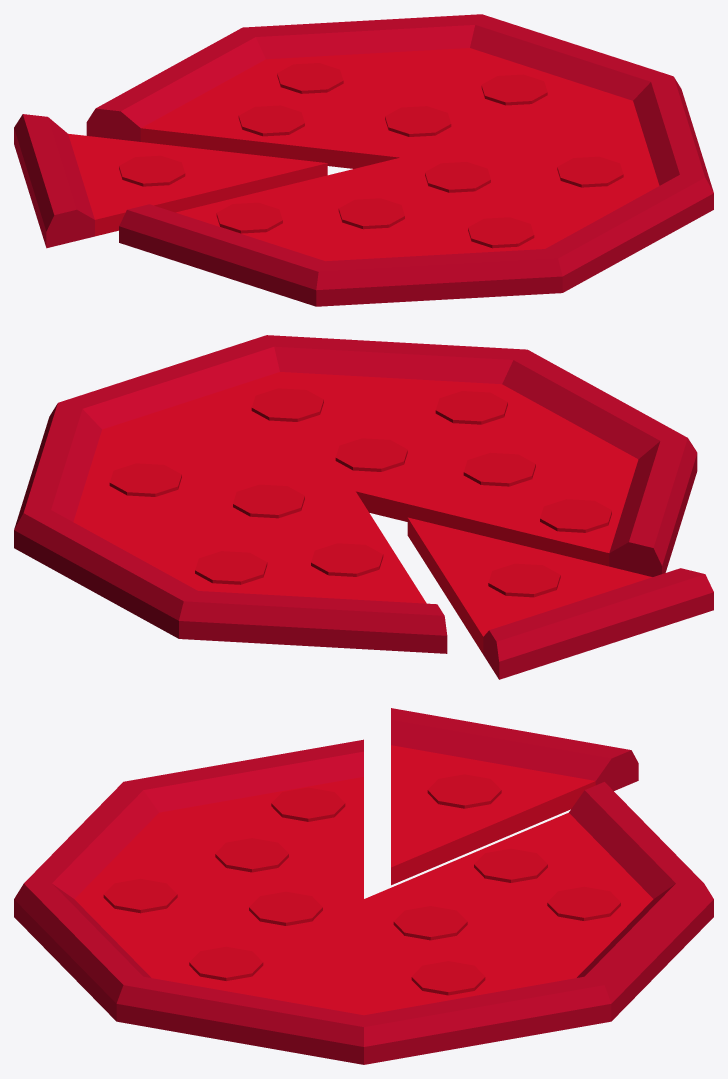
The model's file is Pizza_01.fbx.
The picture shows the model from 3 angles, top to bottom: view 1: azimuth 30°, elevation 25°; view 2: azimuth 150°, elevation 25°; view 3: azimuth 270°, elevation 25°; orthographic projection. The views are drawn at different scales.
Parts seen in each view (by area): view 1: Pizza_01; view 2: Pizza_01; view 3: Pizza_01.
Part boxes in pixels (<box>): Pizza_01: <box>14,14,713,306</box>; Pizza_01: <box>14,335,713,679</box>; Pizza_01: <box>14,708,713,1064</box>.
Size of the model in its own units: 8.4 by 0.4026 by 7.59.
